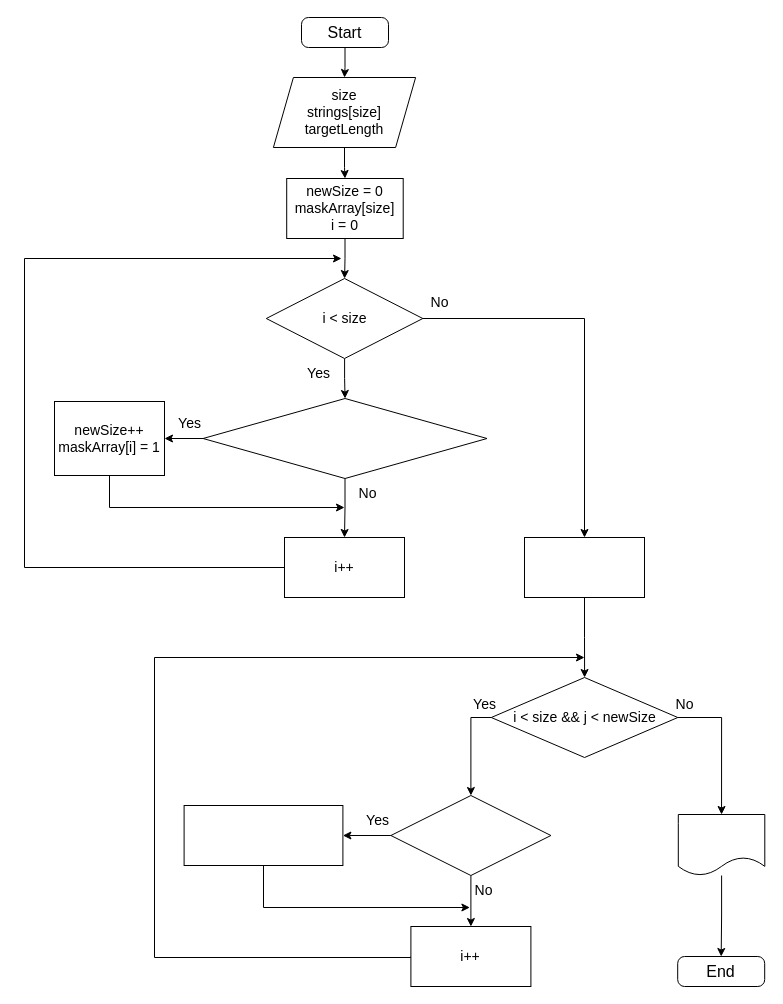
Some shapes in this 783 by 1004 pixel diagram are drawn without their labels. Each missing label, with the centre of its shape:
"maskArray[i] == 1" goes at [470,835].
"newArray" goes at [721,845].
"newArray[j] = strings[i] j++" goes at [263,835].
"newArray[newSize] j = 0" goes at [584,567].
"strings[i].Length <= targetLength" goes at [344,438].
